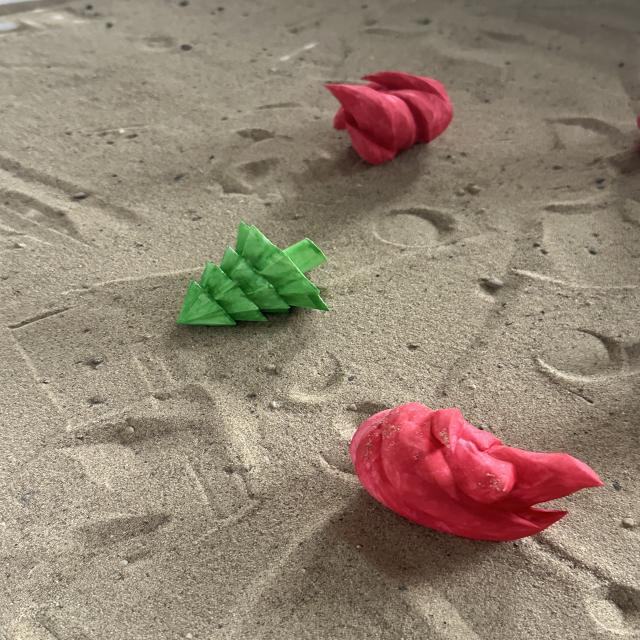fire: (348, 400, 604, 543), (322, 69, 454, 166)
tree: (174, 220, 330, 328)
